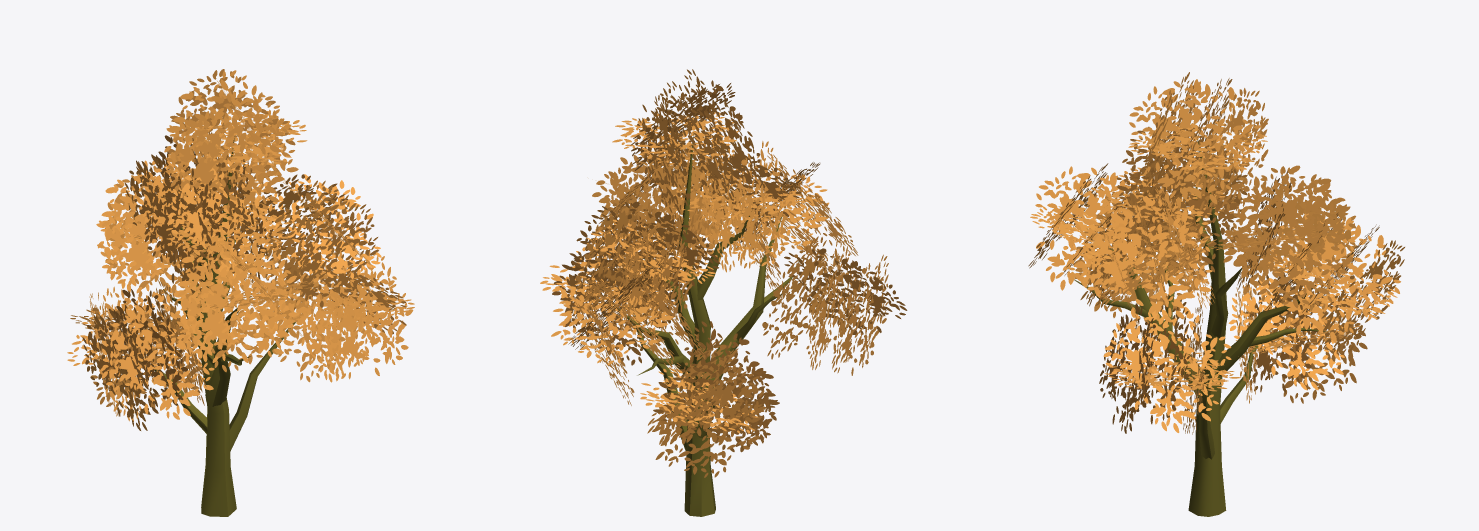
Rendered from anime_tree_2.glb.
3 renders of one model, left to right at view 1: azimuth 30°, elevation 25°; view 2: azimuth 150°, elevation 25°; view 3: azimuth 270°, elevation 25°, orthographic. The views are drawn at different scales.
Parts seen in each view (by area): view 1: Object_2; view 2: Object_2; view 3: Object_2.
Part boxes in pixels (bbox=[...]): Object_2: bbox=[67, 69, 414, 516]; Object_2: bbox=[540, 69, 907, 516]; Object_2: bbox=[1028, 72, 1404, 516].
Bounding box in the file's own units: 2.58 × 2.89 × 2.64.
Materials: 1 (1 with a texture image).
